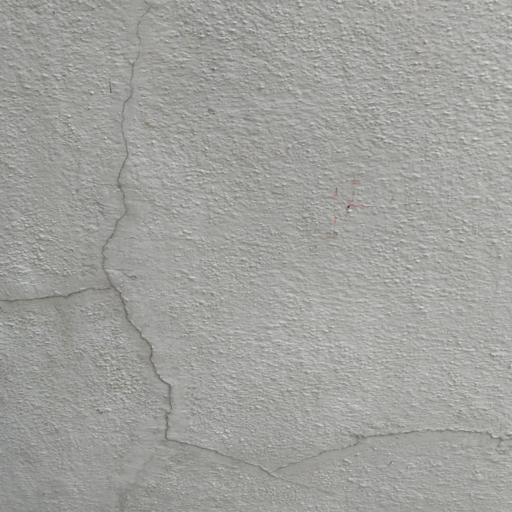minor_crack: (0, 0, 306, 512), (267, 373, 512, 493)
